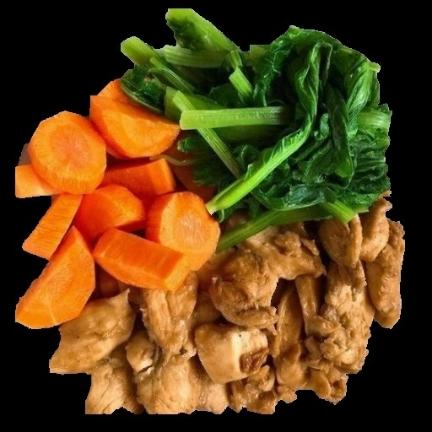carrot: (14, 73, 227, 333), (15, 79, 219, 328)
chicken: (49, 198, 404, 414), (49, 197, 404, 413)
salad: (117, 8, 387, 245), (121, 8, 391, 230)
